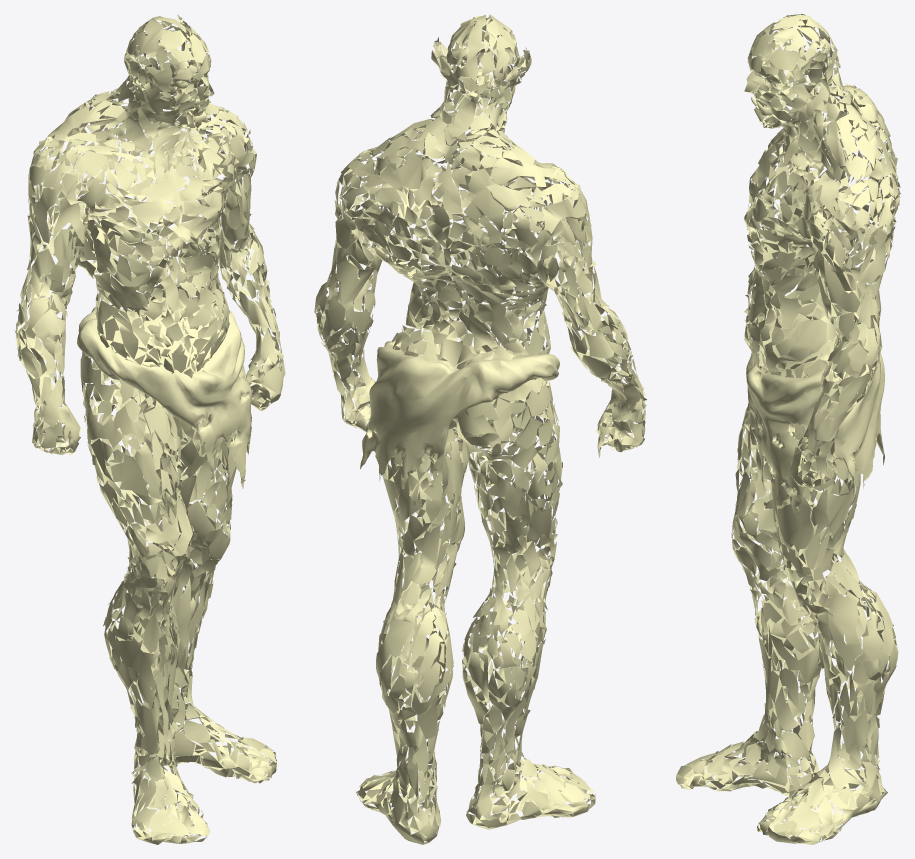
File: orc_sculpt.glb
3 views of the same model, side by side, from view 1: azimuth 30°, elevation 25°; view 2: azimuth 150°, elevation 25°; view 3: azimuth 270°, elevation 25° (orthographic). The views are drawn at different scales.
Parts seen in each view (by area): view 1: Object_4, Object_3, Object_5, Object_2; view 2: Object_4, Object_3, Object_5, Object_2; view 3: Object_4, Object_3, Object_5, Object_2.
Boxes of the visible parts, x1,y1,x2,y2 form: Object_4: [19, 16, 283, 843]; Object_3: [15, 14, 279, 840]; Object_5: [14, 15, 285, 844]; Object_2: [77, 295, 252, 488]; Object_4: [314, 14, 645, 819]; Object_3: [318, 17, 646, 844]; Object_5: [316, 17, 646, 831]; Object_2: [360, 340, 559, 489]; Object_4: [681, 14, 899, 843]; Object_3: [678, 16, 900, 844]; Object_5: [676, 18, 900, 843]; Object_2: [746, 292, 884, 532].
Bounding box in the file's own units: 664 × 1823 × 474.
